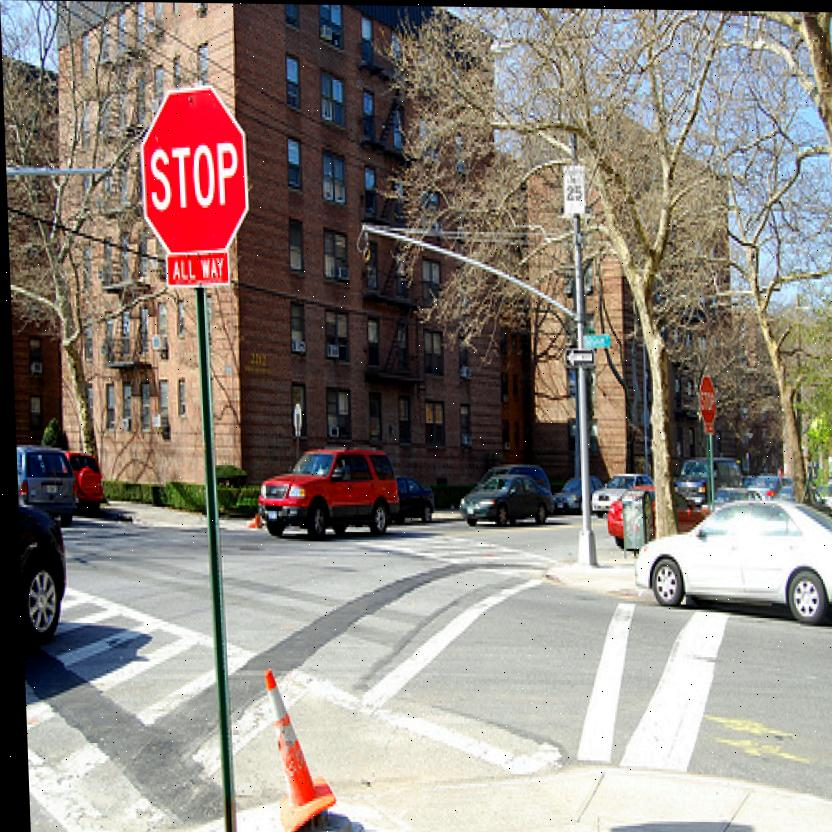Pole: (191, 287, 233, 831), (703, 436, 711, 508)
Sign: (135, 85, 250, 252), (696, 370, 715, 426)
